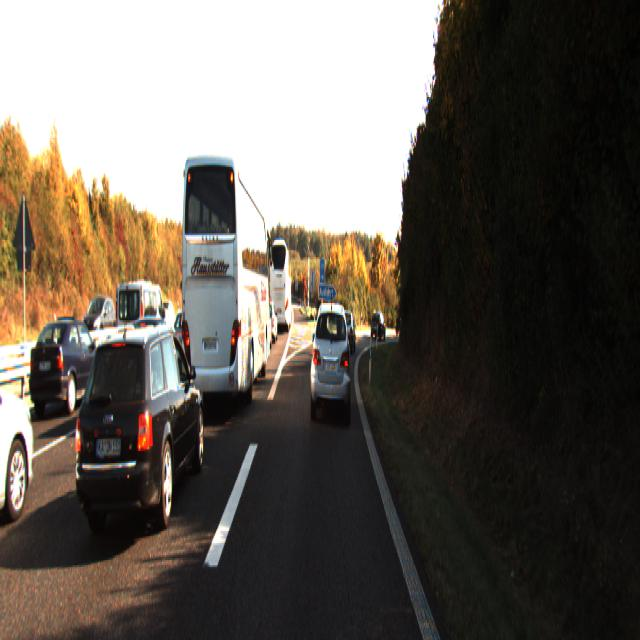Car: (70, 322, 206, 556), (179, 150, 270, 424), (0, 325, 40, 538), (29, 318, 111, 420), (310, 300, 352, 425), (114, 279, 166, 376), (269, 243, 290, 336), (340, 312, 357, 357), (370, 310, 386, 340)
